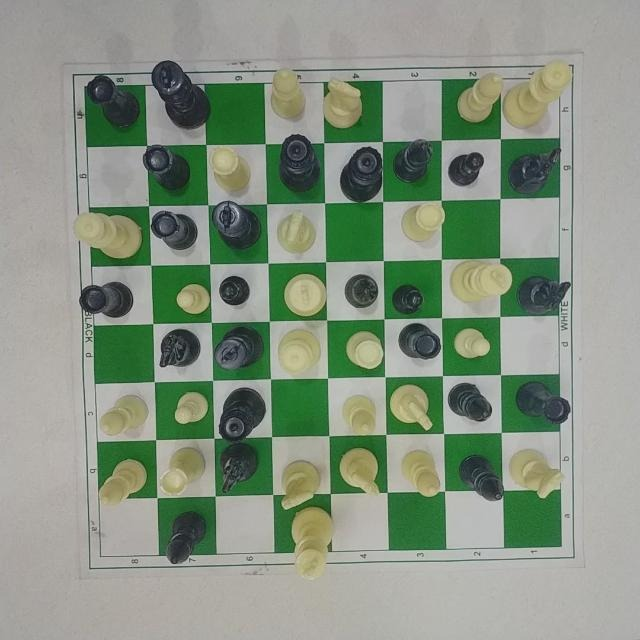black-bishop: (455, 448, 509, 506), (164, 509, 212, 569), (446, 378, 499, 429), (392, 135, 440, 187), (339, 267, 387, 313)
black-king: (151, 57, 215, 132), (211, 200, 266, 252), (217, 325, 267, 375)
black-knight: (510, 143, 562, 200), (217, 440, 269, 494), (515, 268, 574, 314), (158, 326, 204, 372)
black-pawn: (448, 147, 488, 190), (393, 281, 426, 319), (219, 272, 251, 310)
black-queen: (278, 131, 325, 197), (219, 385, 270, 443), (341, 145, 383, 205)
black-rook: (82, 72, 140, 131), (511, 378, 573, 427), (138, 142, 196, 192), (74, 281, 140, 323), (149, 208, 205, 254), (397, 322, 443, 365)
white-bishop: (98, 454, 154, 510), (97, 389, 153, 441), (453, 69, 503, 127), (267, 63, 310, 127), (401, 446, 443, 501), (340, 391, 384, 441)
white-king: (293, 505, 341, 580), (450, 256, 514, 306), (281, 269, 331, 319)
white-knight: (508, 444, 566, 500), (321, 74, 367, 132), (276, 457, 325, 509), (338, 446, 386, 499), (387, 383, 436, 433), (275, 208, 326, 255)
white-pawn: (452, 321, 492, 363), (174, 278, 216, 316), (170, 390, 211, 428)
white-queen: (508, 57, 573, 135), (70, 206, 146, 265), (276, 324, 326, 381)
white-rook: (158, 444, 208, 499), (205, 144, 252, 193), (401, 200, 448, 246), (342, 327, 387, 371)
